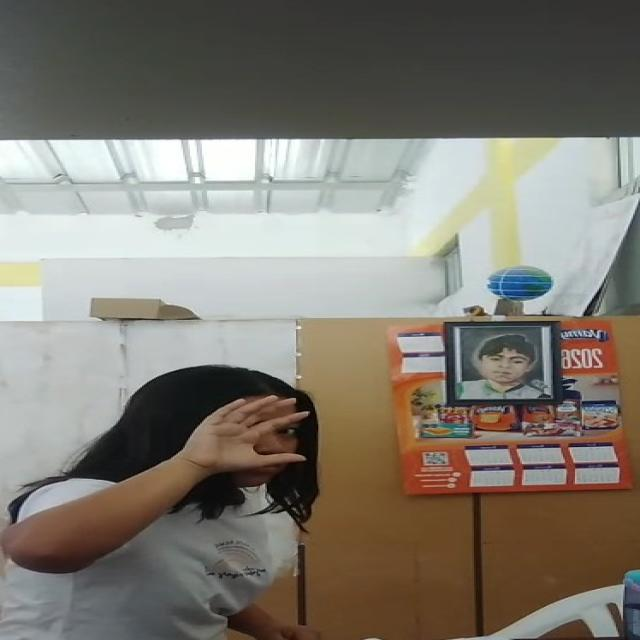7_mano_rostro: (152, 396, 306, 468)
